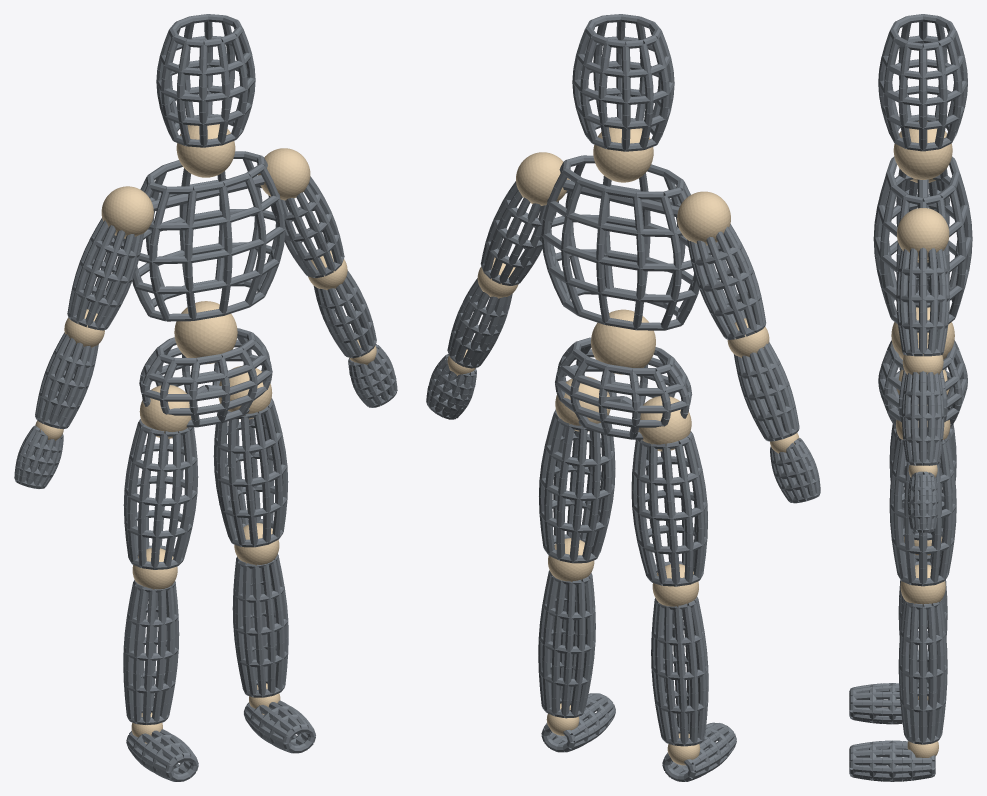
Rendered from artist-mannequin-neutral.glb.
The picture shows the model from 3 angles, left to right: view 1: azimuth 30°, elevation 25°; view 2: azimuth 150°, elevation 25°; view 3: azimuth 270°, elevation 25°; orthographic projection. The views are drawn at different scales.
Visible parts, largest first — view 1: waist_joint, shoulder-1, neck_joint, shoulder1, hip-1, knee-1, knee1, hip1, elbow-1; view 2: waist_joint, shoulder-1, neck_joint, shoulder1, hip-1, knee-1, knee1, hip1, elbow-1, elbow1; view 3: shoulder1, neck_joint, knee1, elbow1, waist_joint, ankle1, wrist1.
Boxes of the visible parts, <box> form: waist_joint: <box>174,301,237,364</box>; shoulder-1: <box>101,186,153,238</box>; neck_joint: <box>176,124,235,177</box>; shoulder1: <box>258,148,310,200</box>; hip-1: <box>139,385,191,438</box>; knee-1: <box>132,548,177,589</box>; knee1: <box>234,523,279,565</box>; hip1: <box>218,365,272,419</box>; elbow-1: <box>64,309,104,347</box>; waist_joint: <box>591,309,655,374</box>; shoulder-1: <box>677,191,730,245</box>; neck_joint: <box>593,127,653,182</box>; shoulder1: <box>516,152,569,205</box>; hip-1: <box>638,396,691,451</box>; knee-1: <box>652,564,698,606</box>; knee1: <box>548,538,594,581</box>; hip1: <box>555,376,610,431</box>; elbow-1: <box>727,318,769,357</box>; elbow1: <box>477,257,518,298</box>; shoulder1: <box>897,208,949,259</box>; neck_joint: <box>893,121,952,179</box>; knee1: <box>900,564,945,605</box>; elbow1: <box>902,342,943,374</box>; waist_joint: <box>891,307,954,359</box>; ankle1: <box>907,741,938,757</box>; wrist1: <box>908,465,937,477</box>.
Size of the model in its own units: 0.9741 by 1.75 by 0.2716.
